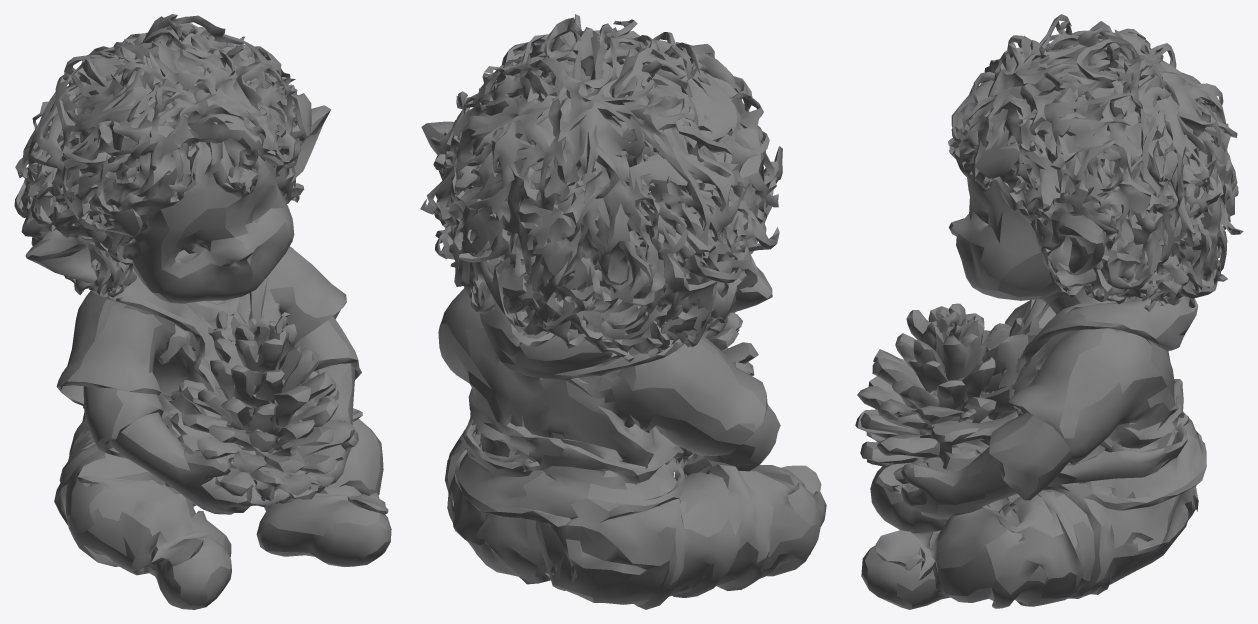
The model's file is completion_sprite_0.glb.
The picture shows the model from 3 angles, left to right: view 1: azimuth 30°, elevation 25°; view 2: azimuth 150°, elevation 25°; view 3: azimuth 270°, elevation 25°; orthographic projection. The views are drawn at different scales.
Visible parts, largest first — view 1: geometry_0; view 2: geometry_0; view 3: geometry_0.
Part boxes in pixels (left/top/right/bottom): geometry_0: left=14, top=14, right=391, bottom=609; geometry_0: left=420, top=14, right=826, bottom=609; geometry_0: left=855, top=14, right=1243, bottom=609.
Bounding box in the file's own units: 0.6321 × 0.9888 × 0.6479.
Materials: 1 (1 with a texture image).
